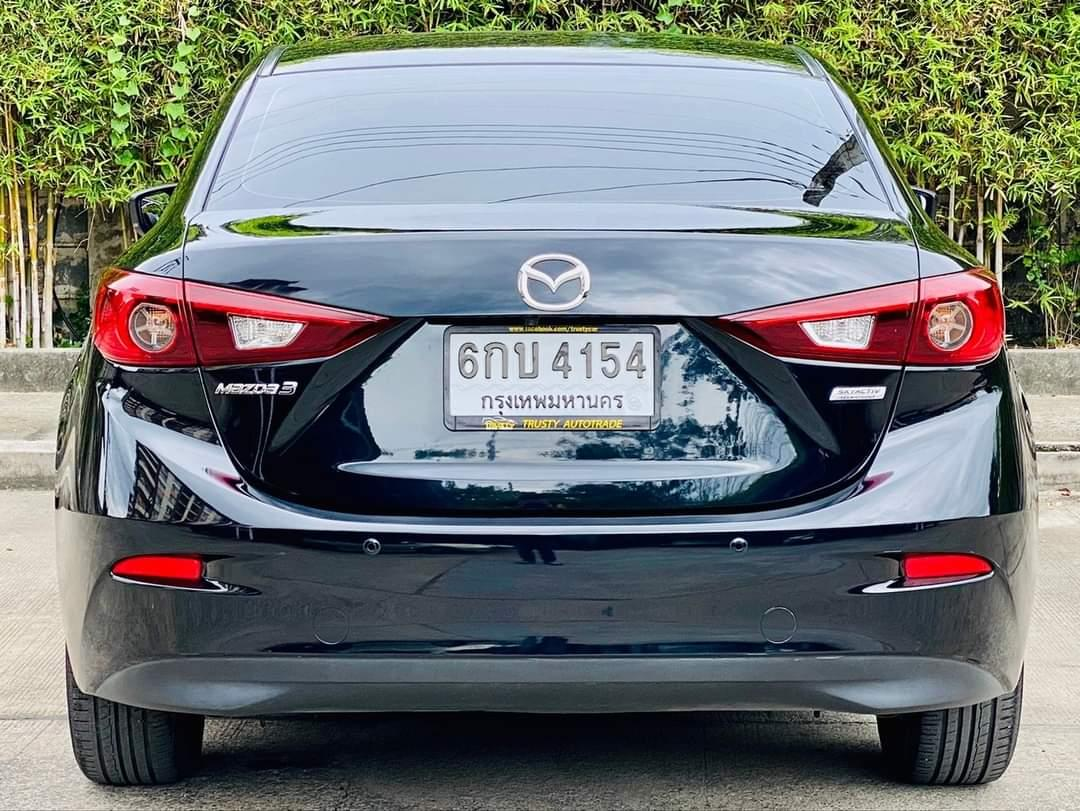license-plate: (444, 326, 658, 433)
